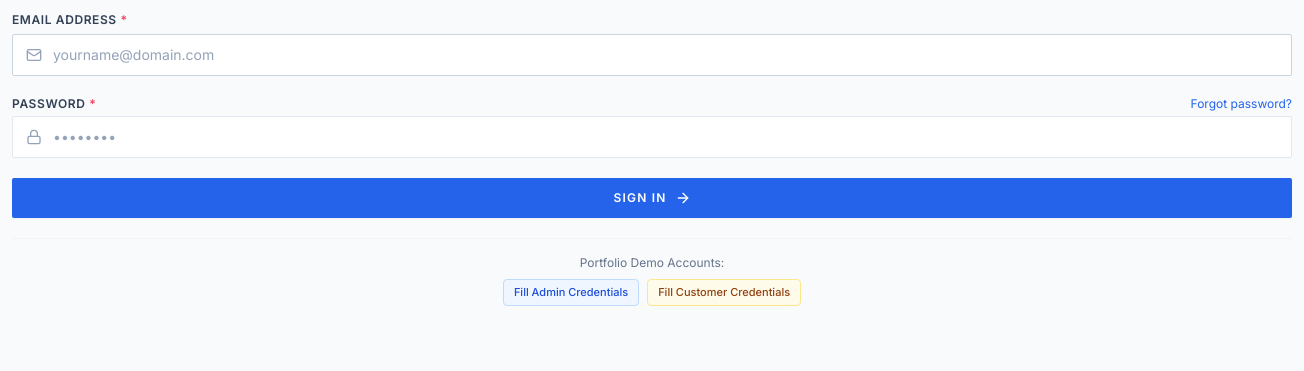
Test case: LoginForm Validation › displays validation error when submitting empty fields
Click the button "Sign In" at [652, 198], box [12,178,1292,218]
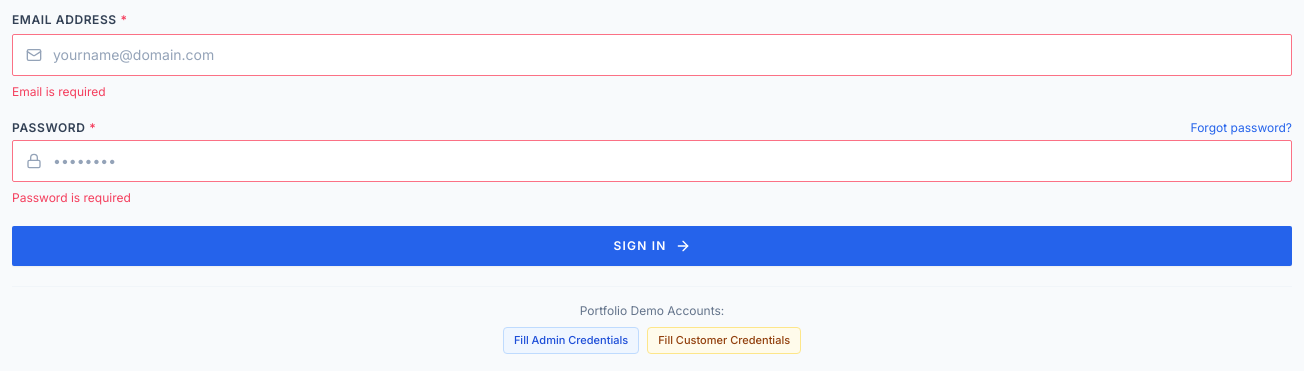
Expected: the text "Email is required" is shown, [12,84,106,99]
Expected: the text "Password is required" is shown, [12,190,131,205]
